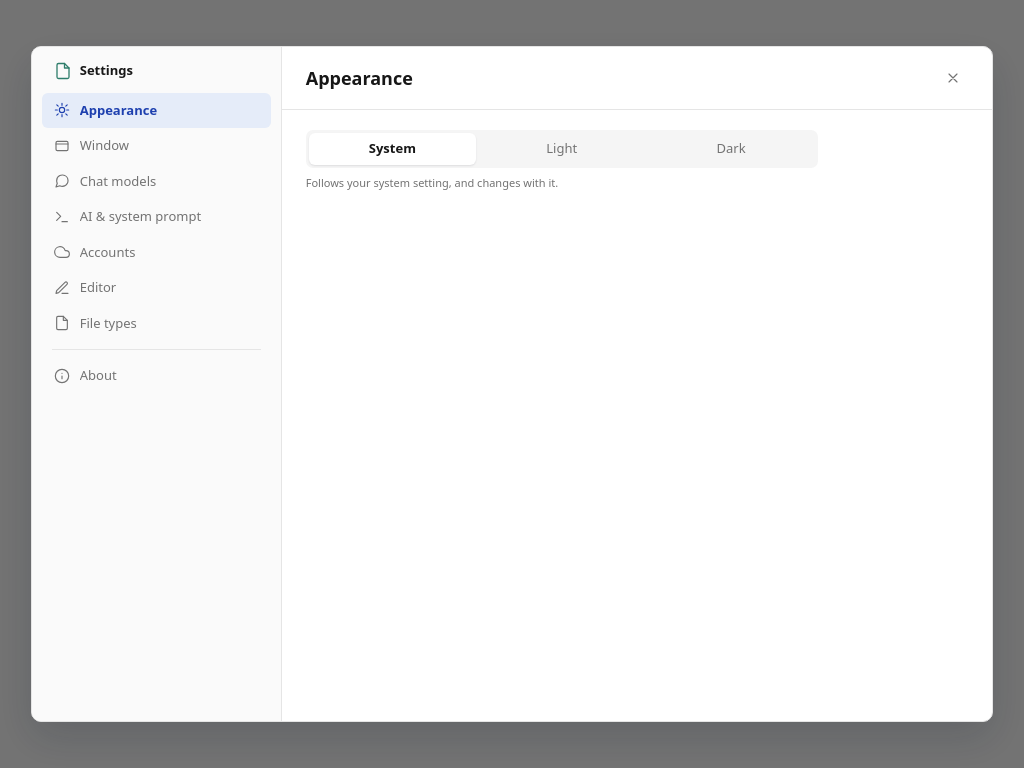
SettingsDialog: the rail › switches page when a rail item is chosen
What coordinates should you click on to do the following:
click the button "Editor"
I would click on:
 (156, 288)
Its box is [42,270,271,306].
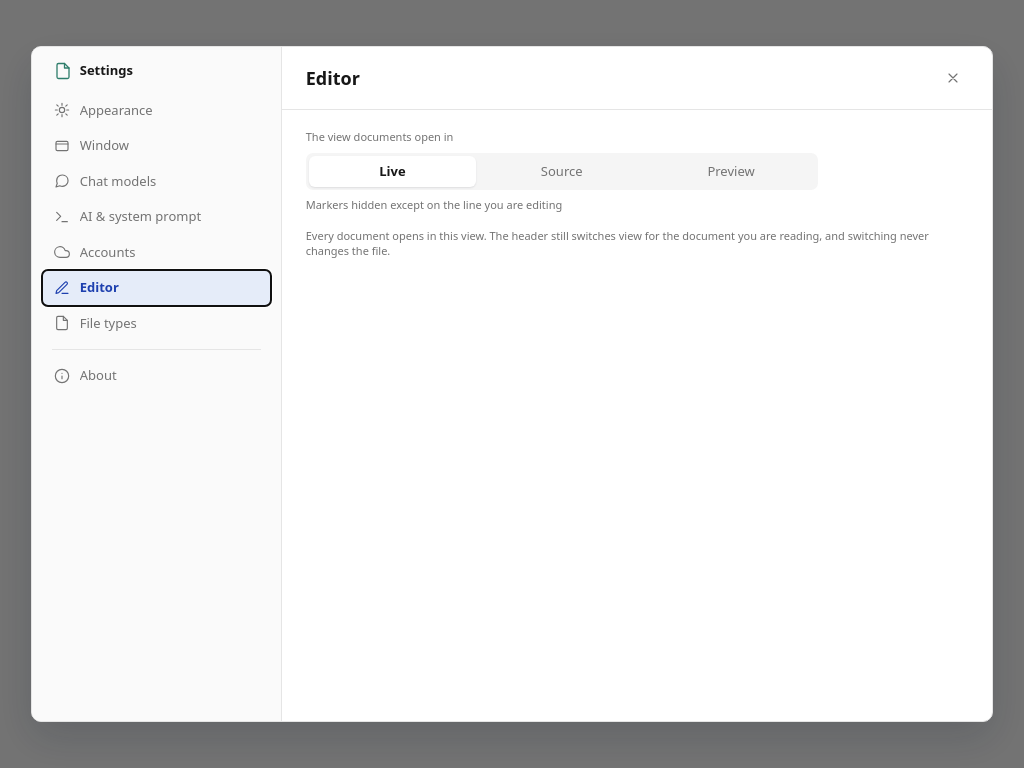
Expected: the heading "Editor" is shown, [306,64,360,92]
